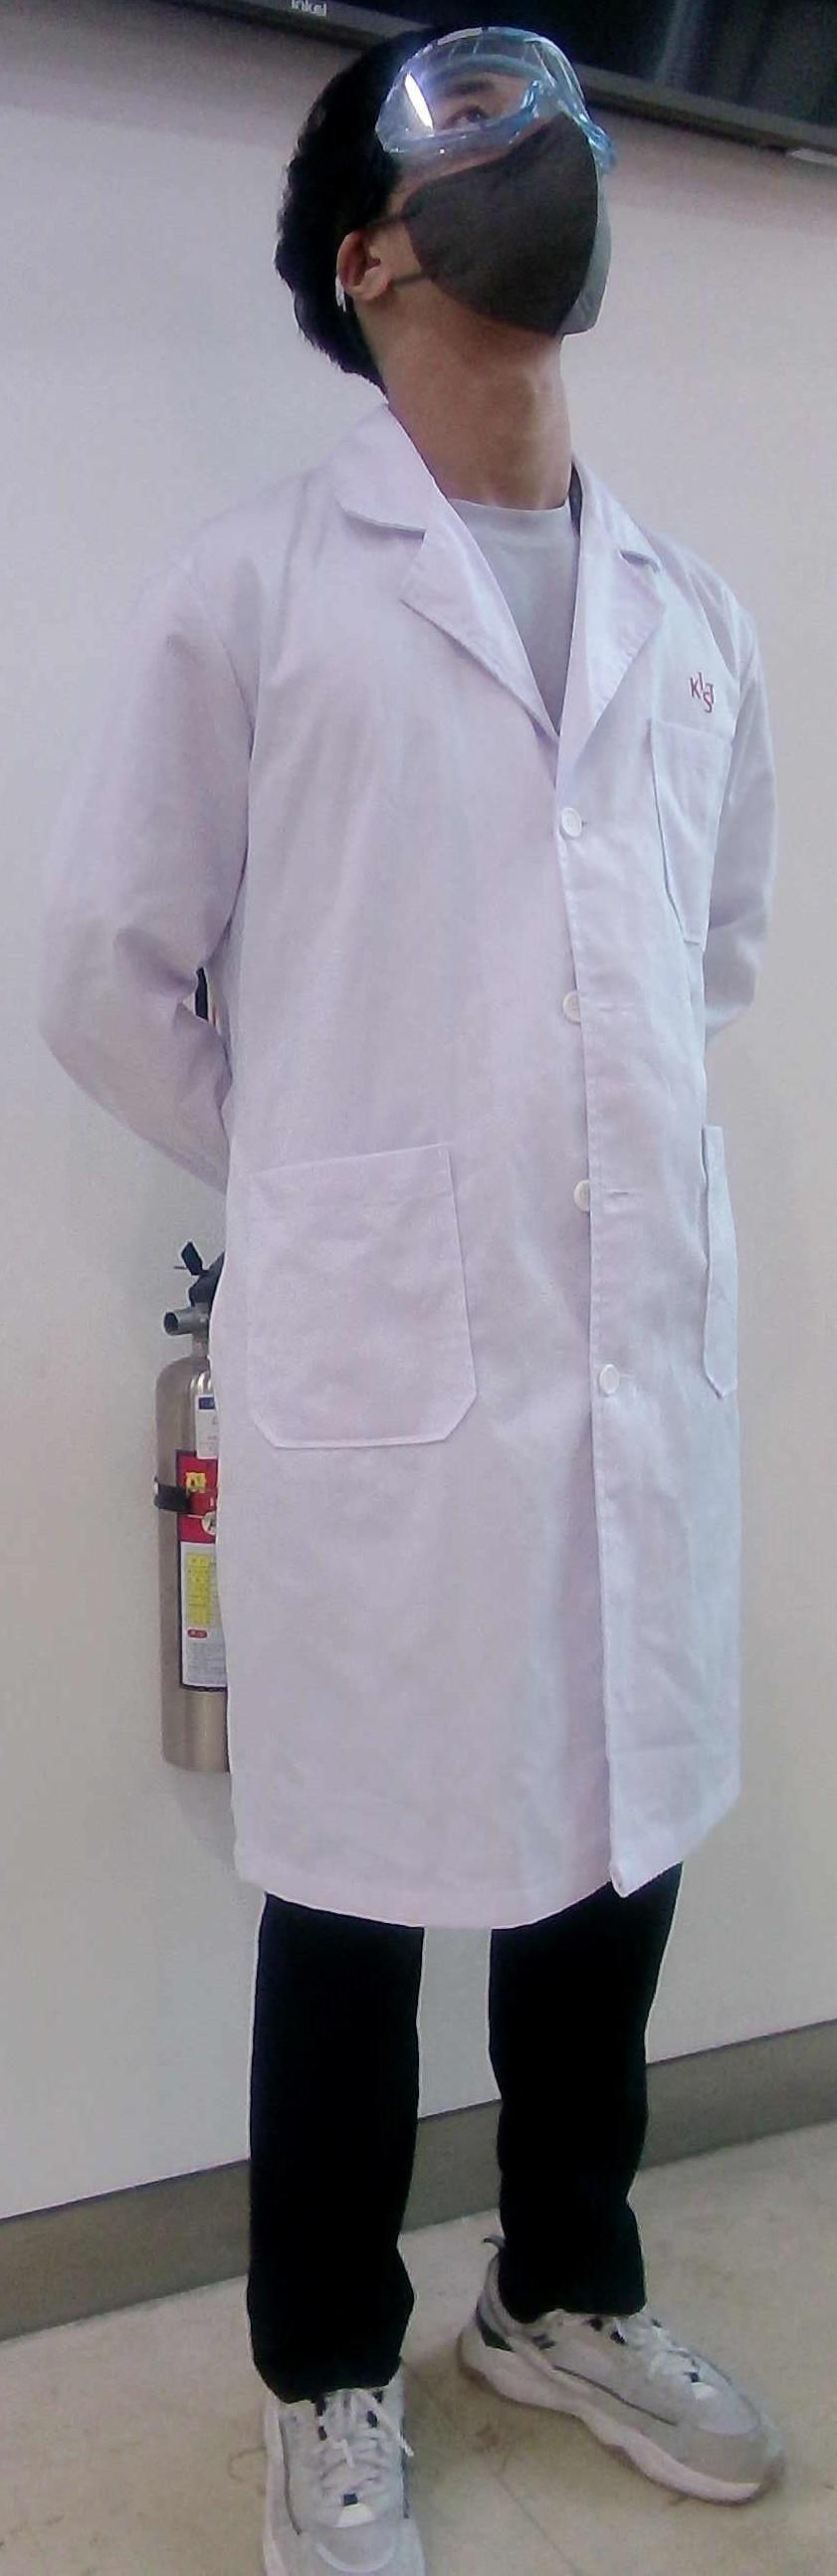lab_coat: (112, 494, 793, 1884)
